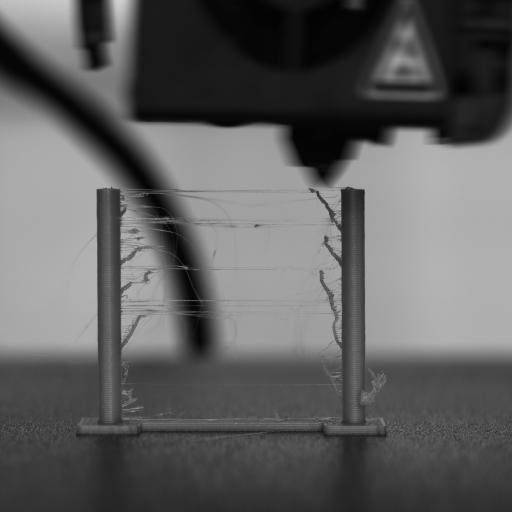spaghetti_and_stringing: (119, 185, 343, 314)
